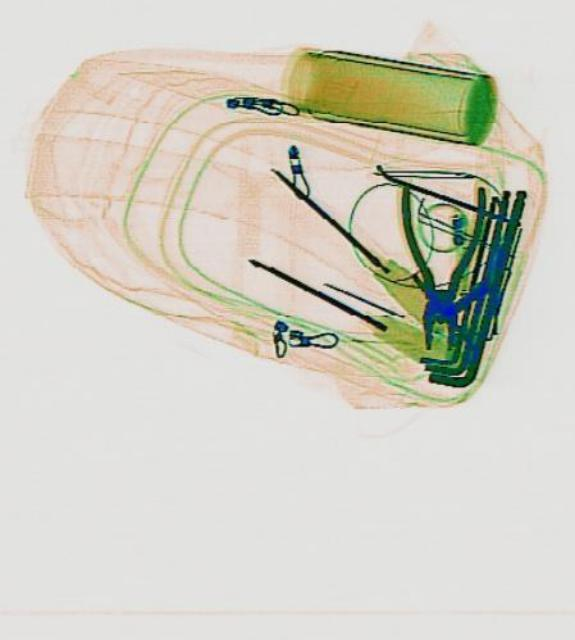Pliers: (395, 182, 486, 352)
